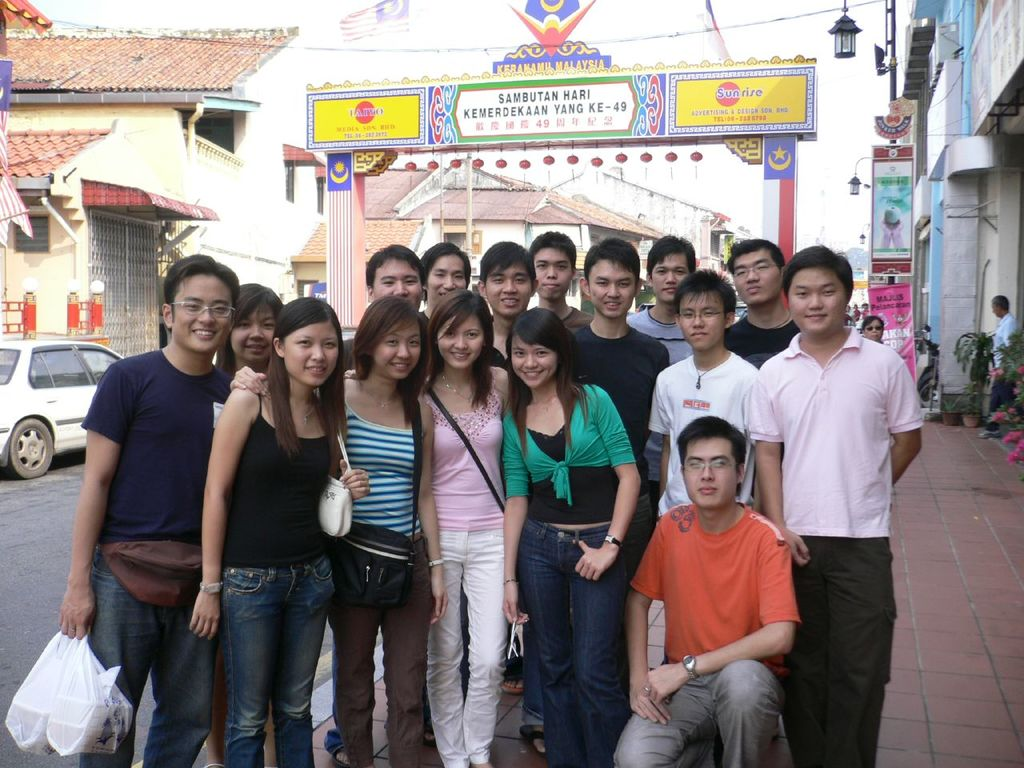Human-face: (173, 273, 235, 350), (278, 323, 345, 393), (682, 434, 741, 511), (786, 266, 847, 330), (374, 305, 422, 381), (730, 245, 783, 303), (367, 250, 423, 303), (586, 257, 637, 315), (481, 255, 535, 309), (439, 307, 489, 365), (678, 291, 727, 350), (233, 295, 275, 359), (650, 245, 694, 301), (421, 253, 469, 302), (531, 237, 569, 293), (510, 339, 554, 385), (861, 319, 881, 337)
